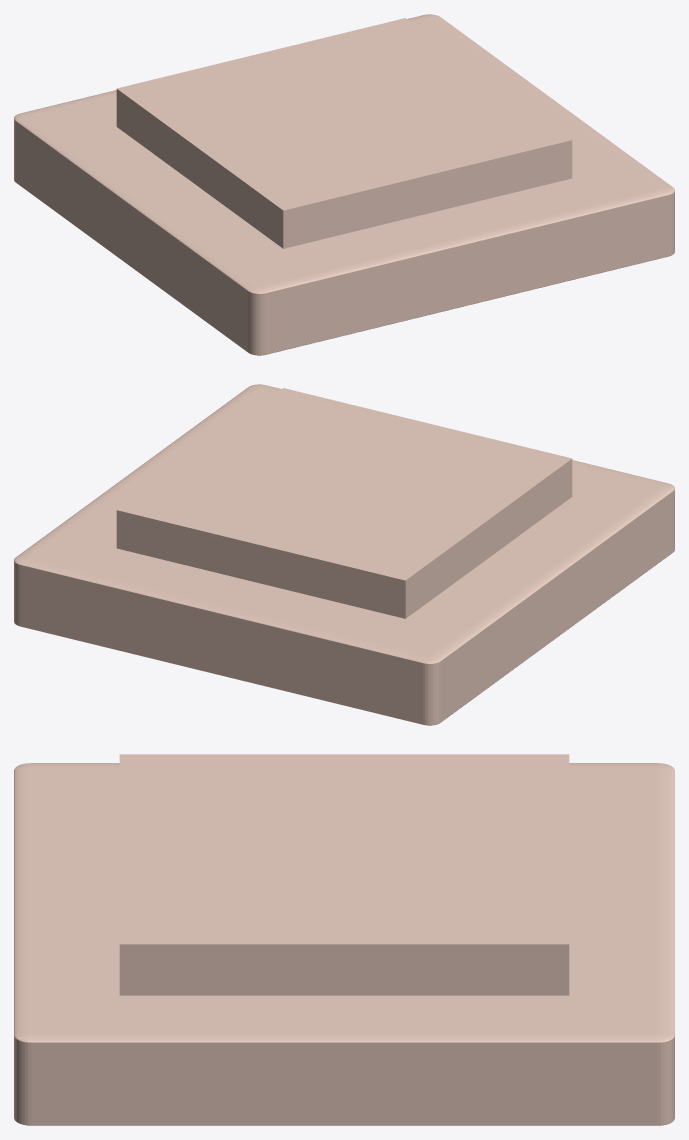
3 renders of one model, top to bottom at view 1: azimuth 30°, elevation 25°; view 2: azimuth 150°, elevation 25°; view 3: azimuth 270°, elevation 25°, orthographic. The views are drawn at different scales.
Visible parts, largest first — view 1: Cube; view 2: Cube; view 3: Cube.
Part boxes in pixels (box(x1,y1,x2,y2)): Cube: box(14, 14, 674, 355); Cube: box(14, 384, 674, 725); Cube: box(14, 754, 674, 1125).
Size of the model in its own units: 9.68 by 2.24 by 9.68.
